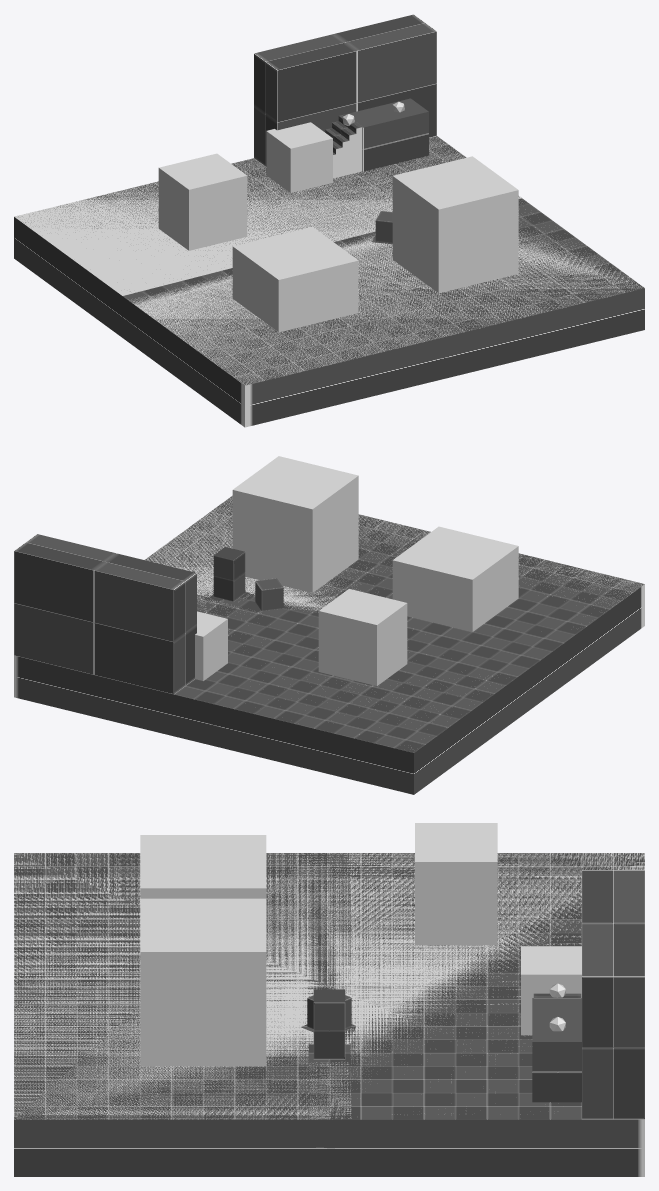
The model's file is test_rooms.glb.
The picture shows the model from 3 angles, top to bottom: view 1: azimuth 30°, elevation 25°; view 2: azimuth 150°, elevation 25°; view 3: azimuth 270°, elevation 25°; orthographic projection. The views are drawn at different scales.
Visible parts, largest first — view 1: floor, walk_area, Cube, interactable.002, interactable.001, interactable.003.cleaner_dialog, Cube.001, interactable.003, stairs; view 2: floor, Cube, interactable.002, interactable.001, interactable.003.cleaner_dialog, walk_area, interactable.003, cube tall, cube small; view 3: floor, walk_area, interactable.002, Cube, interactable.003.cleaner_dialog, interactable.001, Cube.001, interactable.003, cube tall.
Boxes of the visible parts, left/top/right/bottom form: floor: left=14, top=136, right=644, bottom=427; walk_area: left=14, top=136, right=644, bottom=385; Cube: left=254, top=14, right=436, bottom=166; interactable.002: left=392, top=156, right=518, bottom=293; interactable.001: left=232, top=227, right=358, bottom=332; interactable.003.cleaner_dialog: left=158, top=153, right=247, bottom=250; Cube.001: left=346, top=98, right=428, bottom=171; interactable.003: left=266, top=122, right=332, bottom=192; stairs: left=325, top=114, right=362, bottom=178; floor: left=14, top=495, right=644, bottom=794; Cube: left=14, top=534, right=196, bottom=694; interactable.002: left=232, top=456, right=358, bottom=592; interactable.001: left=392, top=526, right=518, bottom=631; interactable.003.cleaner_dialog: left=318, top=589, right=407, bottom=685; walk_area: left=145, top=496, right=643, bottom=747; interactable.003: left=195, top=611, right=227, bottom=680; cube tall: left=213, top=547, right=245, bottom=601; cube small: left=255, top=578, right=283, bottom=610; floor: left=14, top=853, right=644, bottom=1176; walk_area: left=14, top=853, right=644, bottom=1119; interactable.002: left=140, top=898, right=266, bottom=1066; Cube: left=582, top=870, right=644, bottom=1119; interactable.003.cleaner_dialog: left=415, top=823, right=497, bottom=945; interactable.001: left=140, top=835, right=266, bottom=898; Cube.001: left=532, top=998, right=581, bottom=1102; interactable.003: left=521, top=946, right=581, bottom=1035; cube tall: left=313, top=989, right=345, bottom=1059.
Bounding box in the file's own units: 20 × 7 × 20.
1 material, 1 textured.
